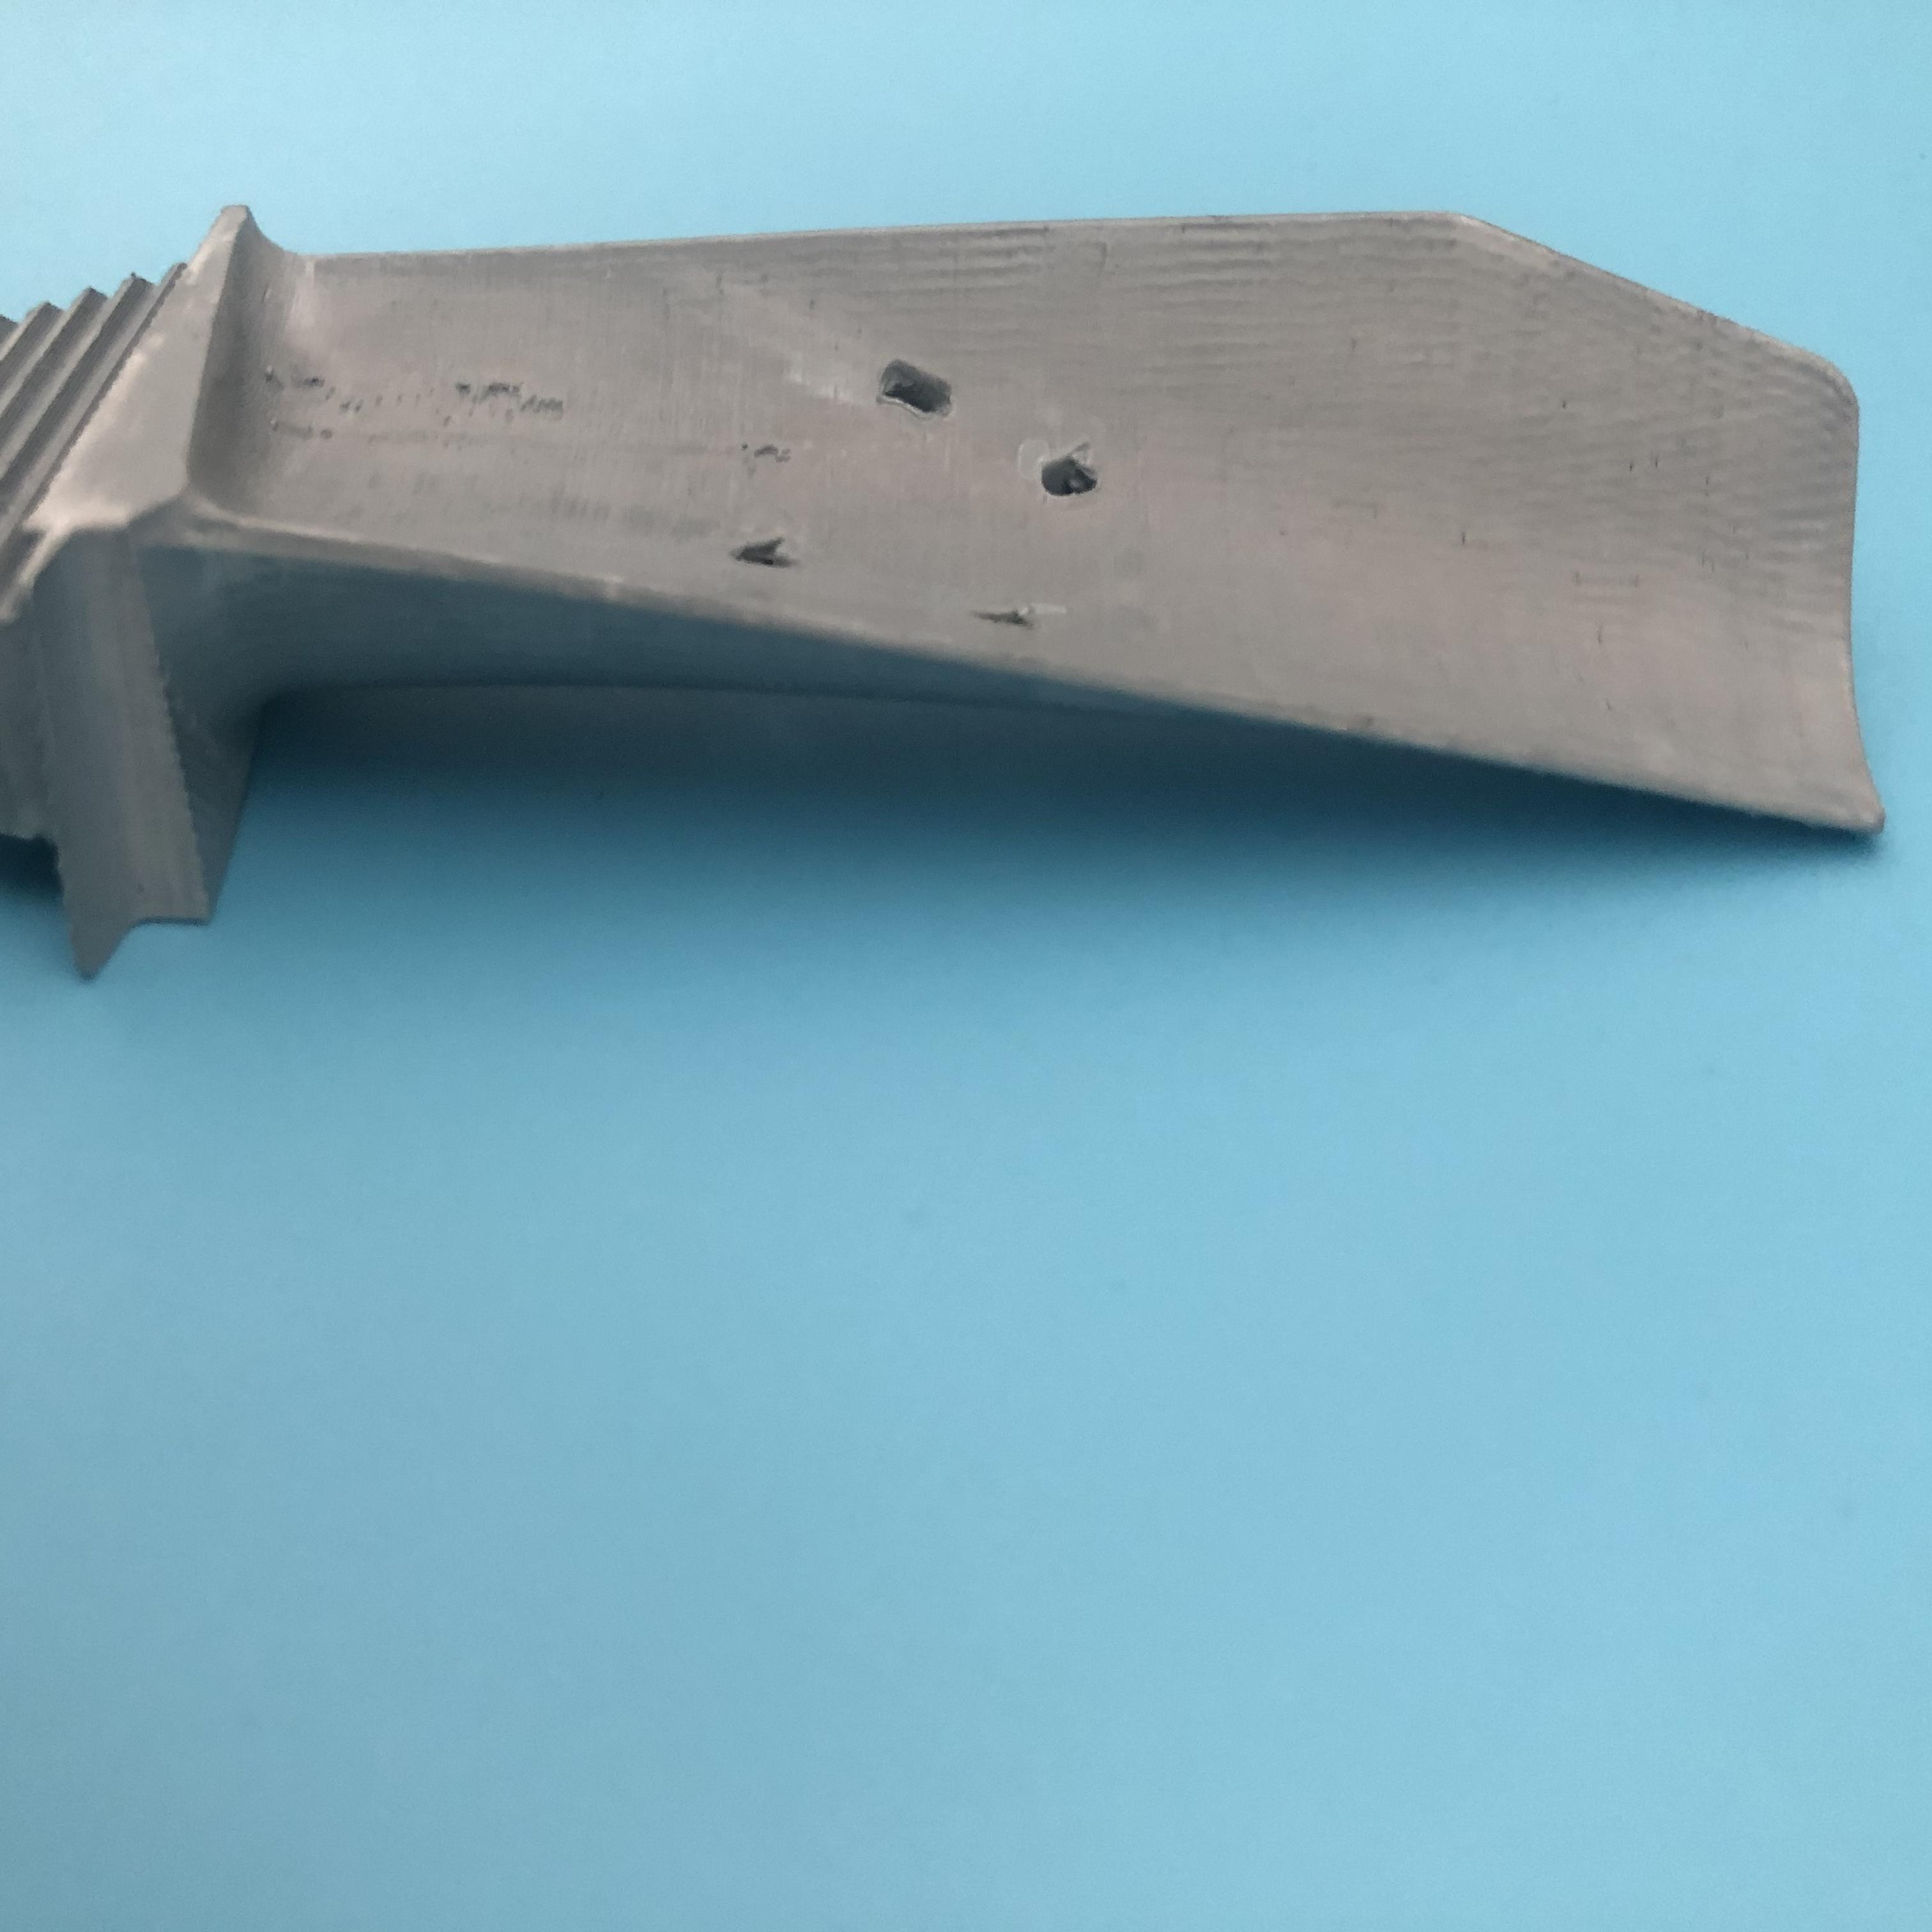breakdown: (745, 373, 1090, 653)
